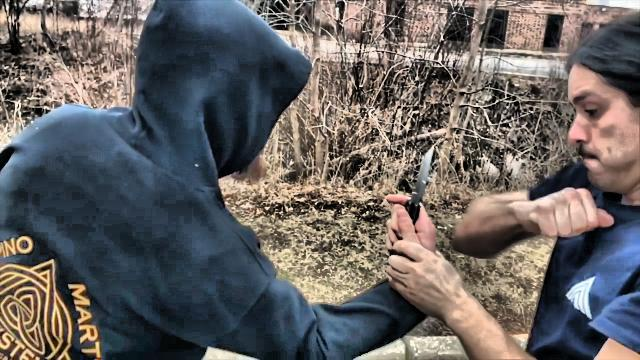knife: (380, 138, 440, 256)
